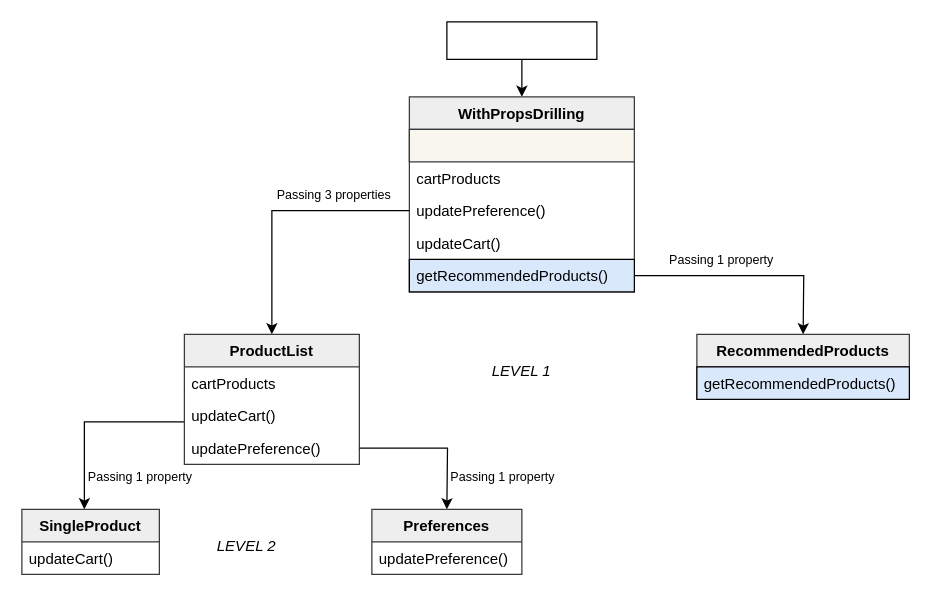
Image size: 931x600. Some labels were removed from this diagram. Here are the shapes that lost their labels. From the top down, the centre of each, then its label:
[521,40]: App.js
[521,145]: productPreference
